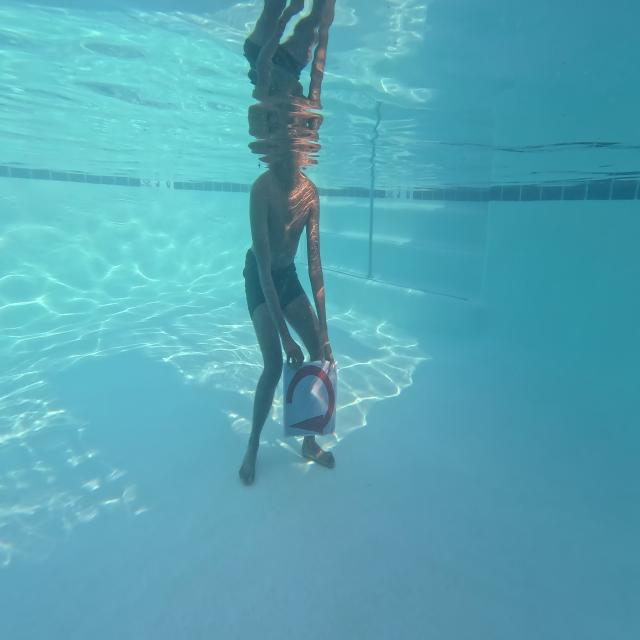red_side: (284, 350, 347, 448)
